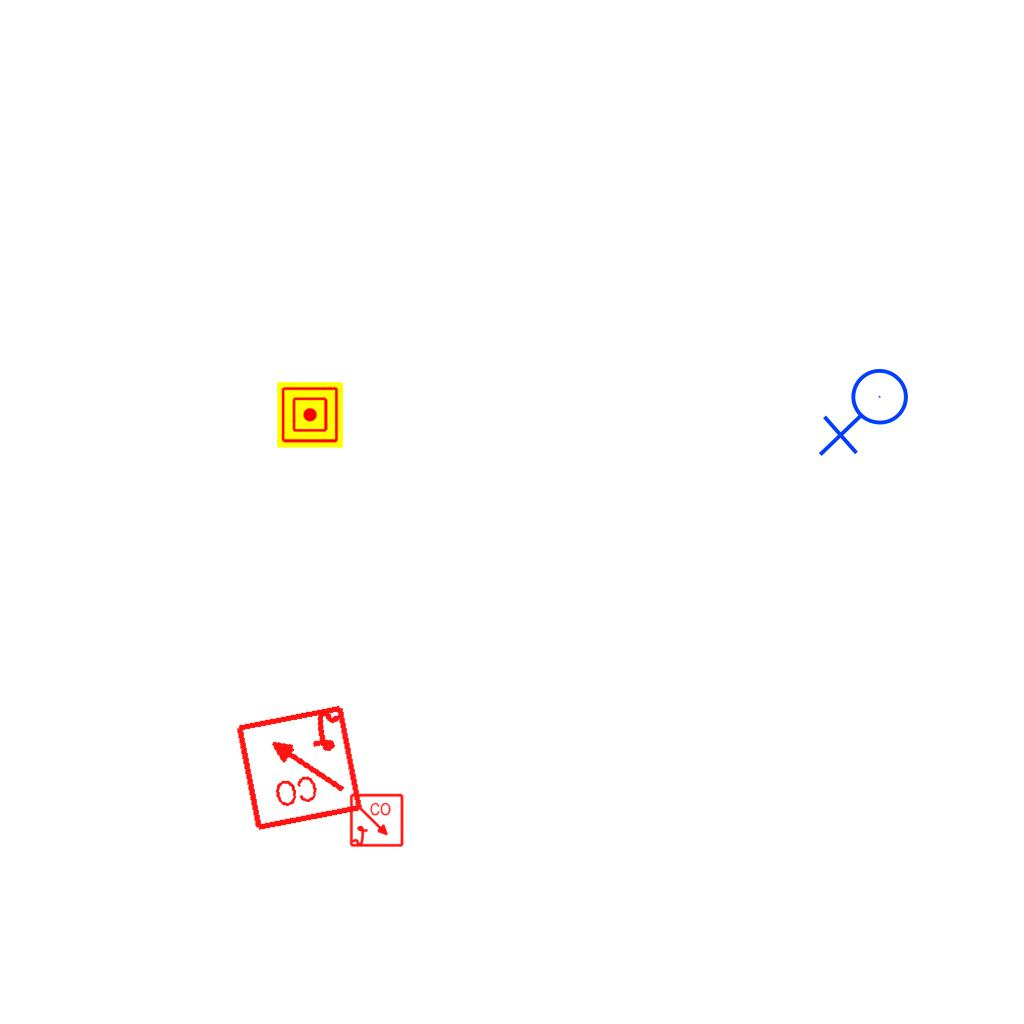Elektroanschluss_allgemein_230V_Geraeteanschlussdose_230V: (818, 367, 917, 461)
NAM-Nichtautomatischer_Melder: (277, 382, 343, 448)
ROA_Rauchmelder_optisch_mit_Signalgeber_(Sockelsirene): (232, 700, 365, 833), (349, 793, 405, 849)
